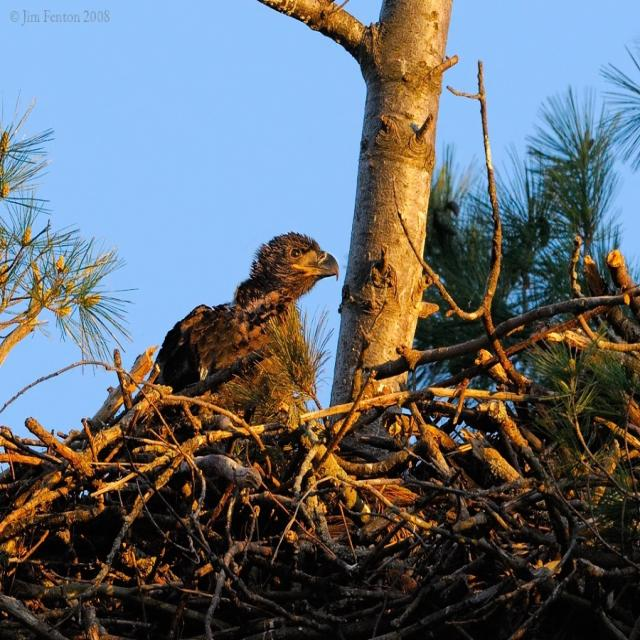bird: (160, 230, 340, 430)
